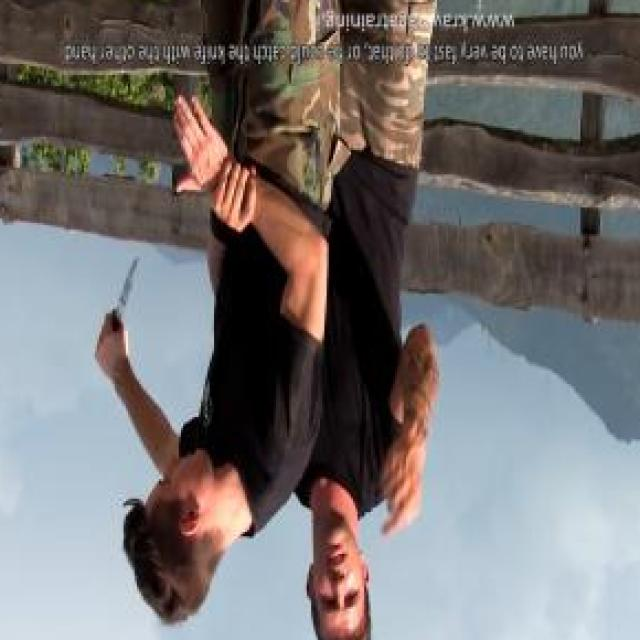knife: (94, 252, 146, 371)
